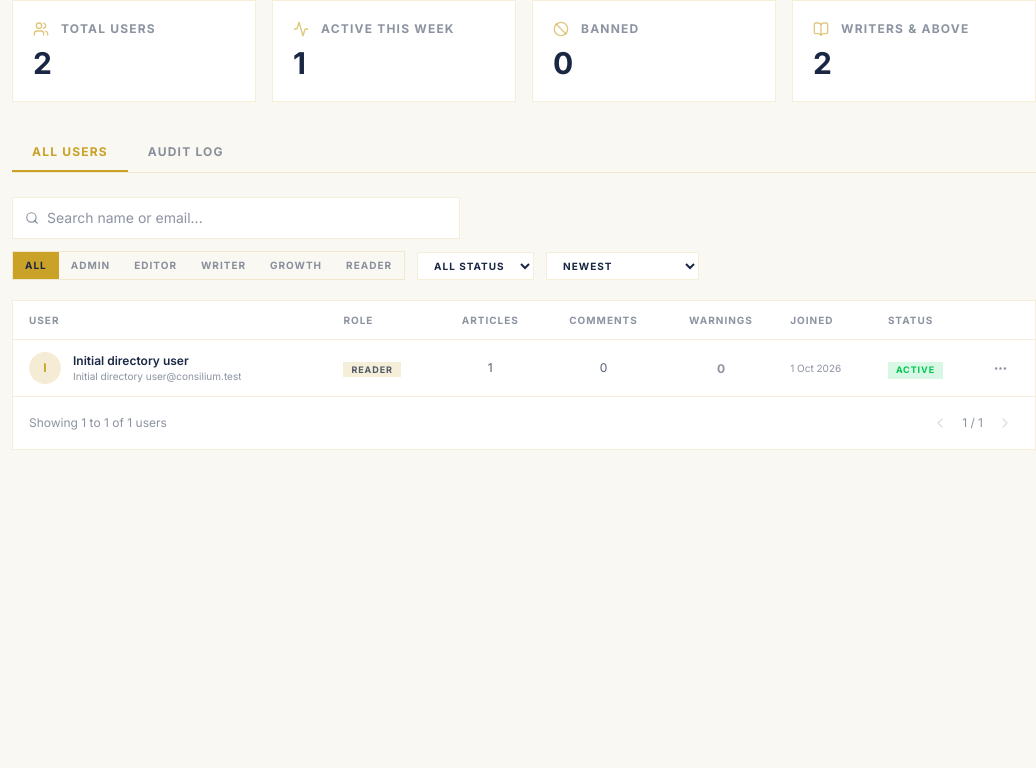
Test case: latest portal selection owns the displayed result › an obsolete directory success cannot replace the current filtered rows
This screenshot has width=1036, height=768.
Expected: the text "Initial directory user" is shown, top-left (73, 353), bottom-right (189, 368)
Select "Oldest" in the dropdown named "User sort" at (623, 266), box top-left (546, 252), bottom-right (699, 280)
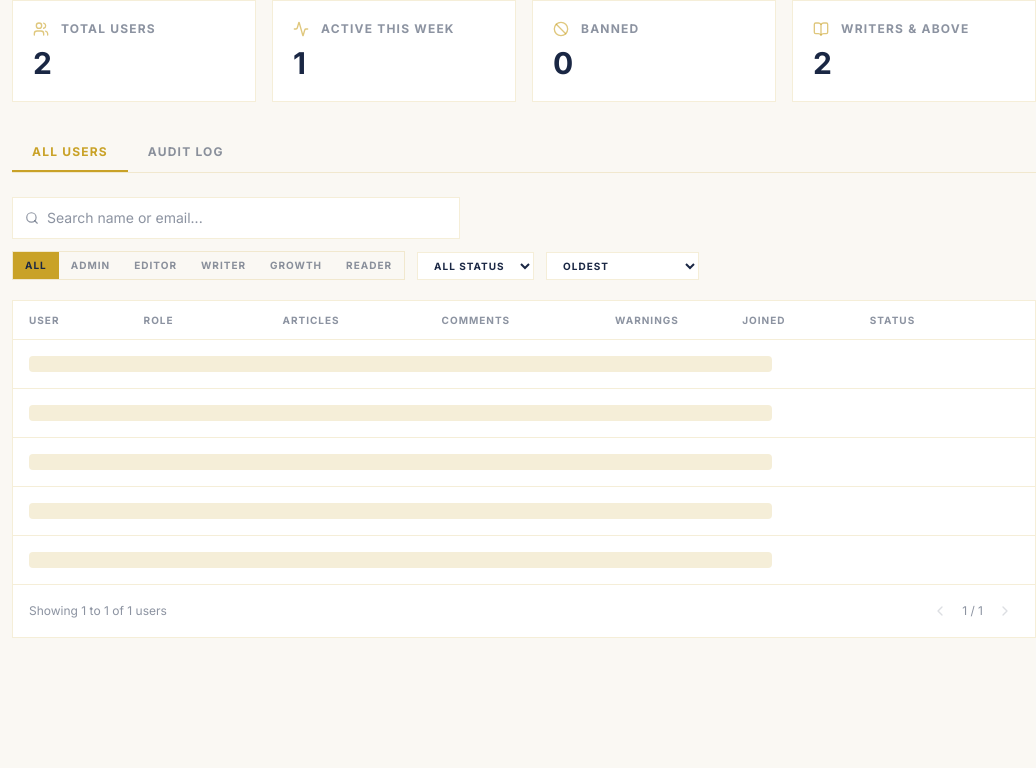
Select "Most articles" in the dropdown named "User sort" at (623, 266), box top-left (546, 252), bottom-right (699, 280)
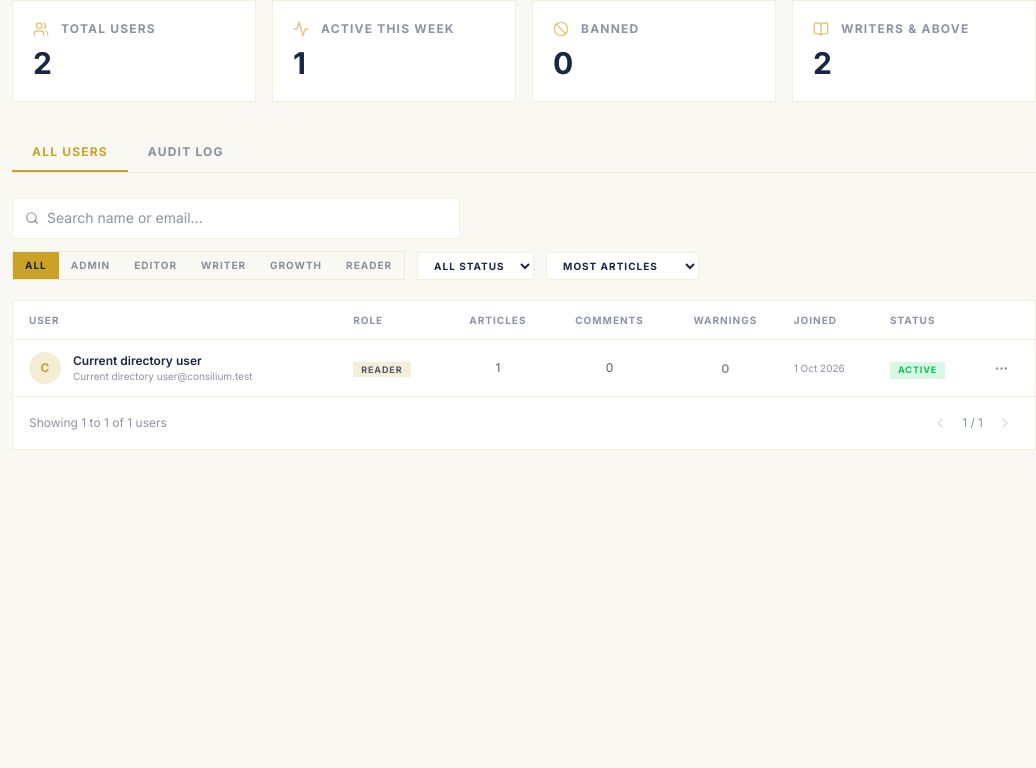
Result: the text "Current directory user" is shown at top-left (73, 353), bottom-right (202, 368)
